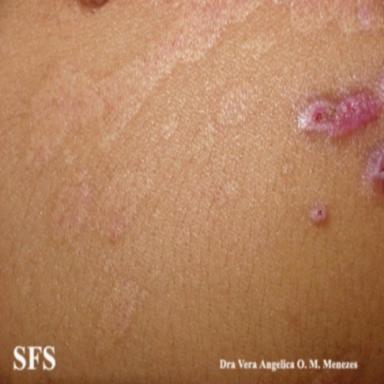Epidermolysis-Bullosa-Pruriginosa: (298, 72, 384, 136), (361, 142, 384, 193), (308, 201, 327, 223)
